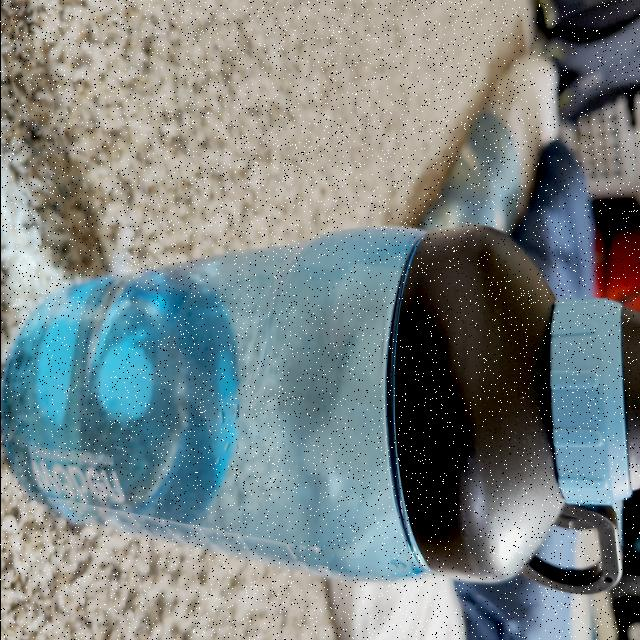bottle: (40, 235, 640, 594)
